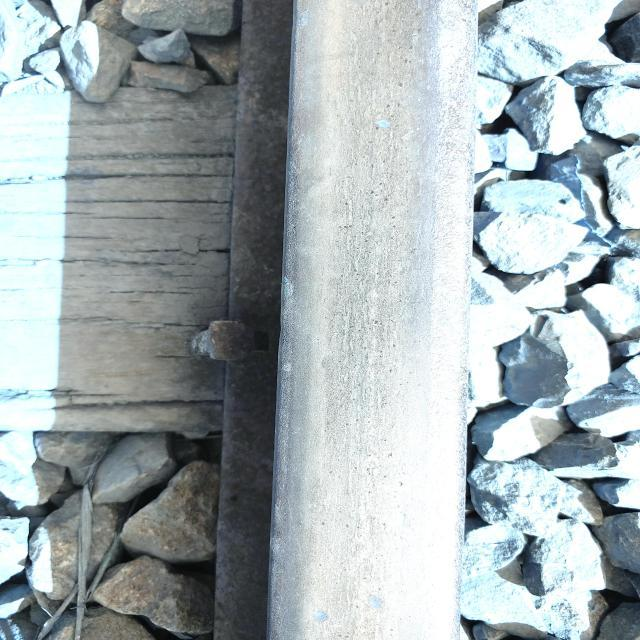Good Fasteners: (191, 320, 255, 360)
